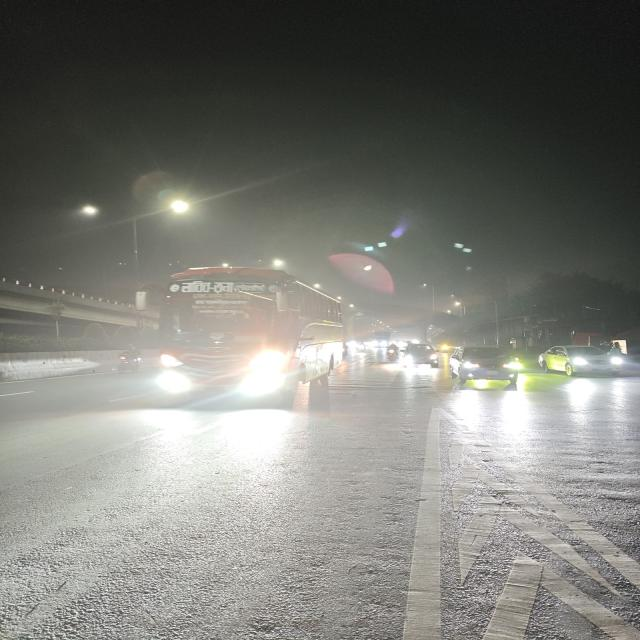bus: (155, 265, 343, 417)
car: (446, 344, 526, 390), (537, 341, 629, 379), (399, 342, 439, 370)
motorcycle: (382, 341, 400, 361)
